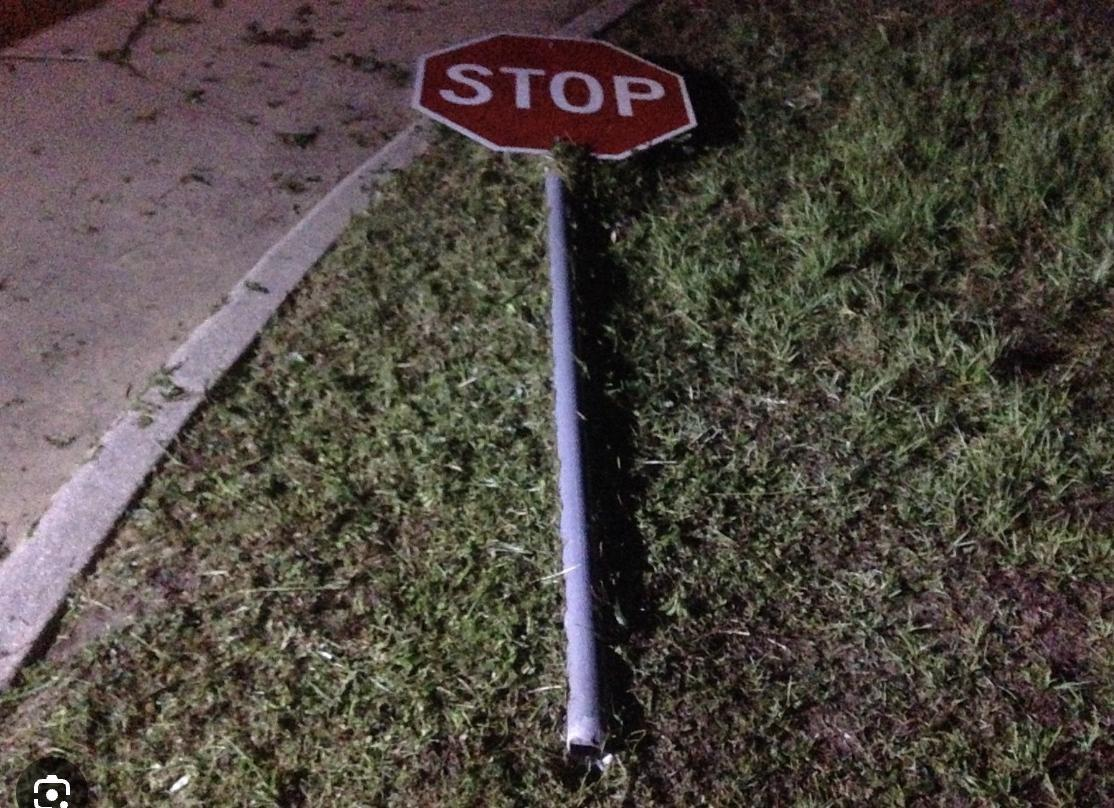Stop-Sign: (414, 35, 697, 159)
